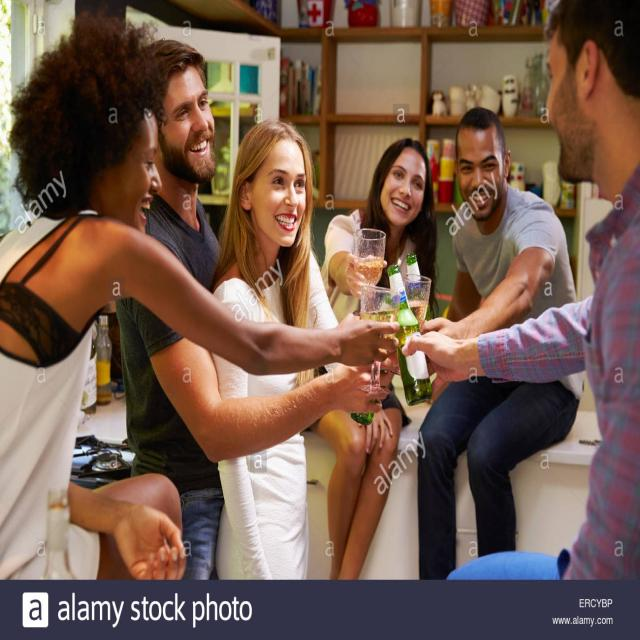body: (0, 41, 403, 578), (113, 36, 397, 580), (400, 0, 640, 583), (210, 115, 394, 584), (415, 104, 584, 580), (304, 135, 438, 581)
